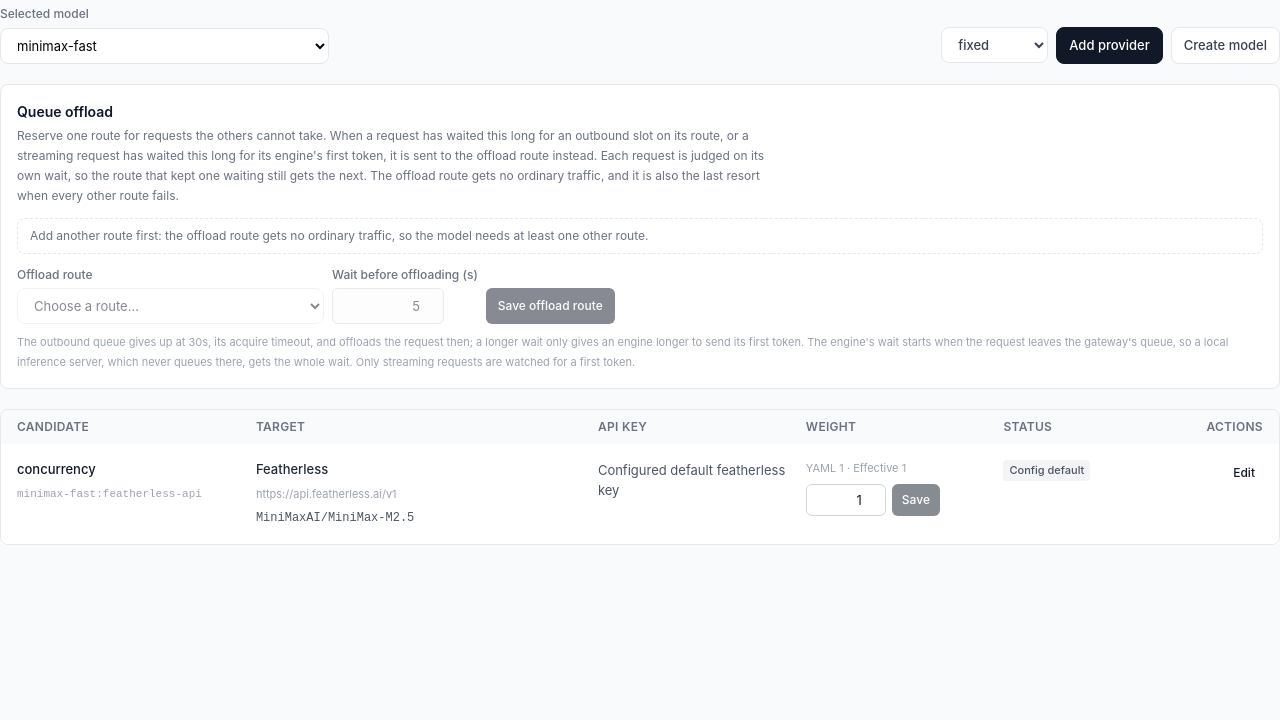
Test case: ProviderRoutesTab › opens the create model form in a dialog
Click the button "Create model" at (1225, 45), box [1171,26,1279,64]
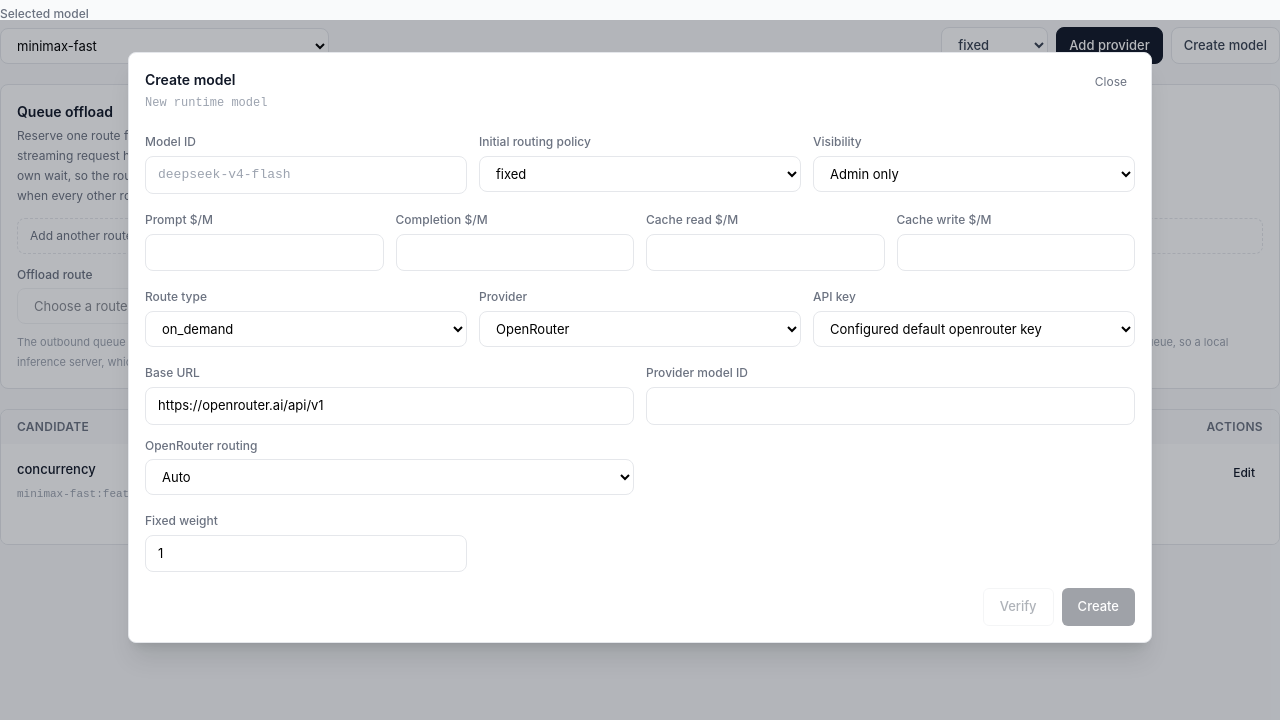
Expected: the dialog "Create model" is shown
Expected: the field labelled "Model ID" is shown, [145,156,467,194]
